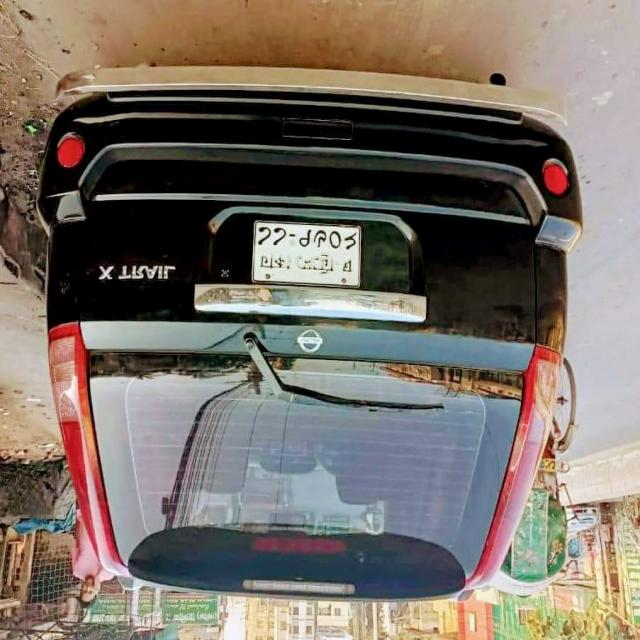black: (35, 87, 582, 601)
